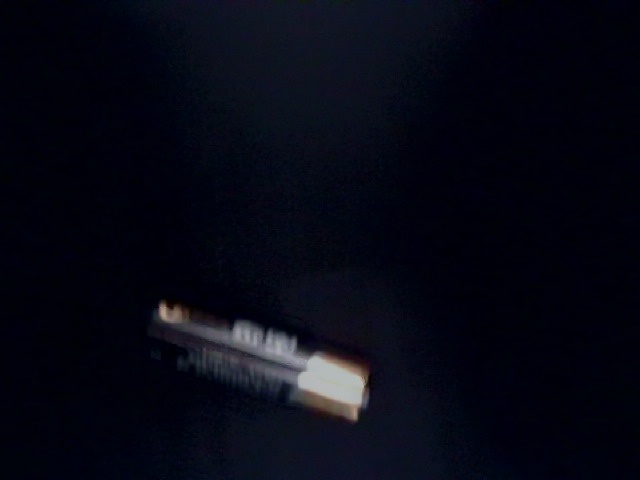YHLJ: (236, 29, 520, 109)
